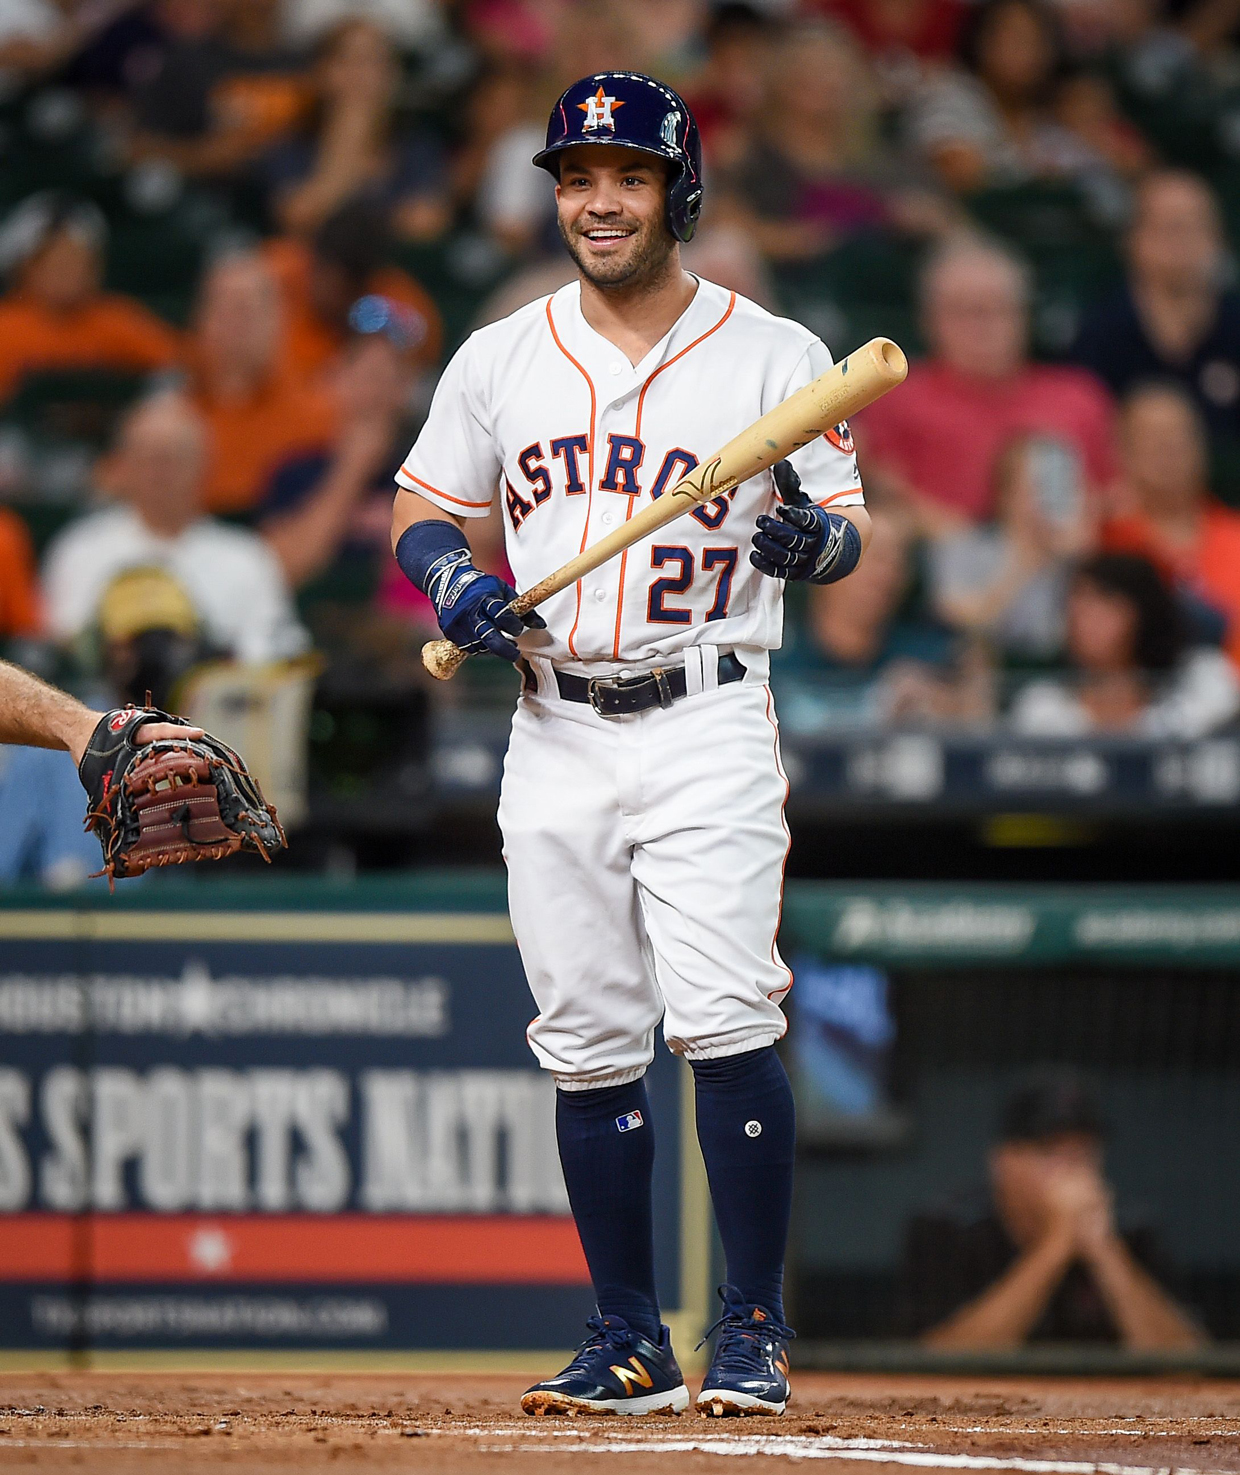LeftAnkle: (700, 1230, 803, 1417)
LeftElbow: (816, 453, 881, 559)
LeftKnee: (673, 945, 793, 1090)
LeftShoulder: (747, 277, 844, 380)
RightAnkle: (522, 1279, 691, 1425)
RightElbow: (379, 439, 488, 570)
RightKnee: (524, 953, 656, 1097)
RightShoulder: (428, 292, 519, 467)
